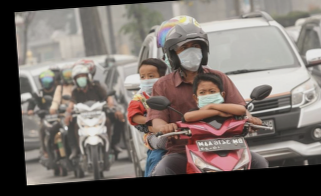with_mask: (176, 42, 204, 73), (196, 86, 224, 108), (138, 71, 159, 96), (75, 73, 88, 89)
